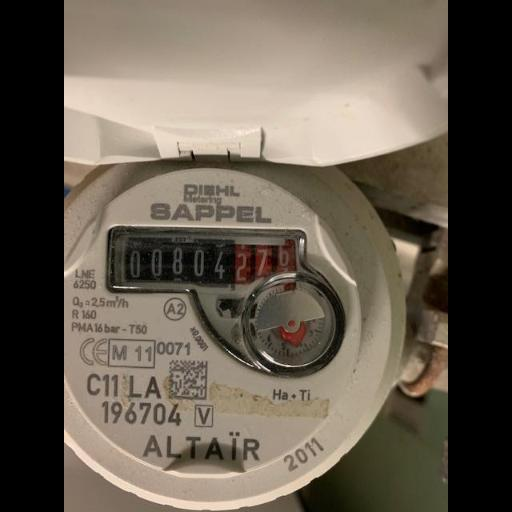0: (125, 237, 147, 283), (145, 237, 167, 283), (187, 238, 209, 283)
2: (231, 244, 253, 285)
4: (207, 238, 233, 282)
6: (276, 245, 297, 275)
7: (252, 244, 276, 284)
8: (166, 237, 188, 283)
border_water_meter_number: (105, 225, 307, 297)
